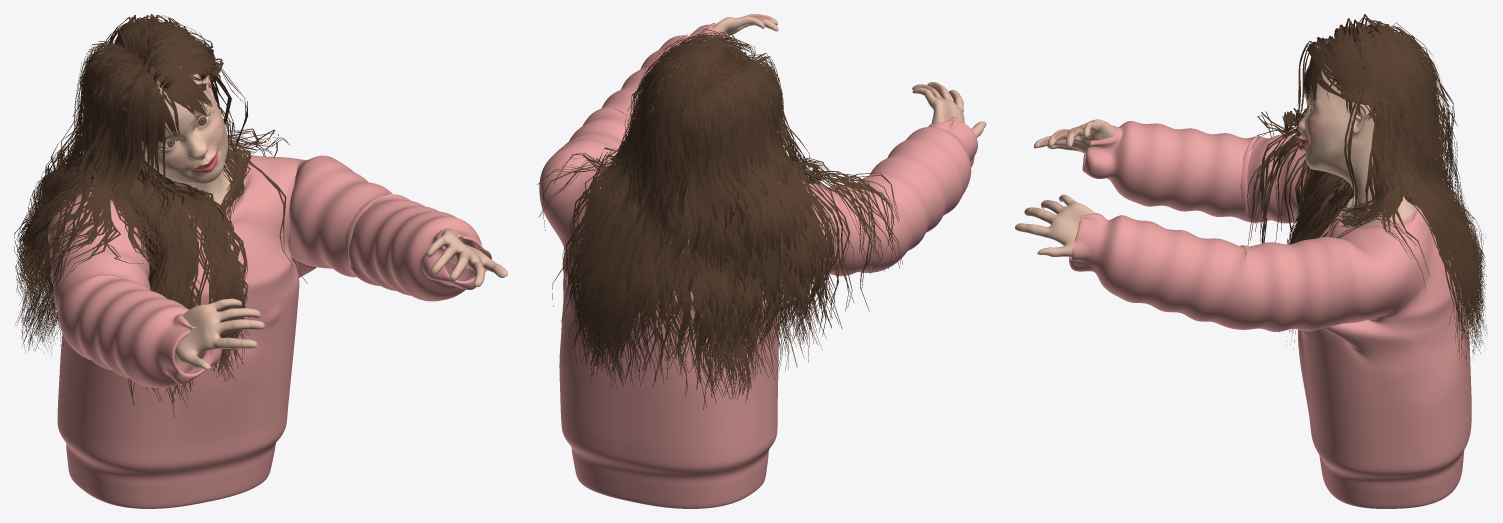
The model's file is character.glb.
The picture shows the model from 3 angles, left to right: view 1: azimuth 30°, elevation 25°; view 2: azimuth 150°, elevation 25°; view 3: azimuth 270°, elevation 25°; orthographic projection. The views are drawn at different scales.
Parts seen in each view (by area): view 1: Sweater, Hair_Export_Proxy, Body; view 2: Hair_Export_Proxy, Sweater, Body; view 3: Sweater, Hair_Export_Proxy, Body.
Part boxes in pixels (bbox=[...]): Sweater: bbox=[48, 151, 491, 508]; Hair_Export_Proxy: bbox=[14, 14, 307, 417]; Body: bbox=[117, 45, 507, 369]; Hair_Export_Proxy: bbox=[537, 29, 902, 409]; Sweater: bbox=[539, 22, 977, 508]; Body: bbox=[678, 14, 986, 138]; Sweater: bbox=[1069, 121, 1471, 508]; Hair_Export_Proxy: bbox=[1247, 14, 1487, 366]; Body: bbox=[1015, 40, 1415, 256].
Bounding box in the file's own units: 0.6515 × 0.8113 × 0.7954.
8 materials, 2 textured.
